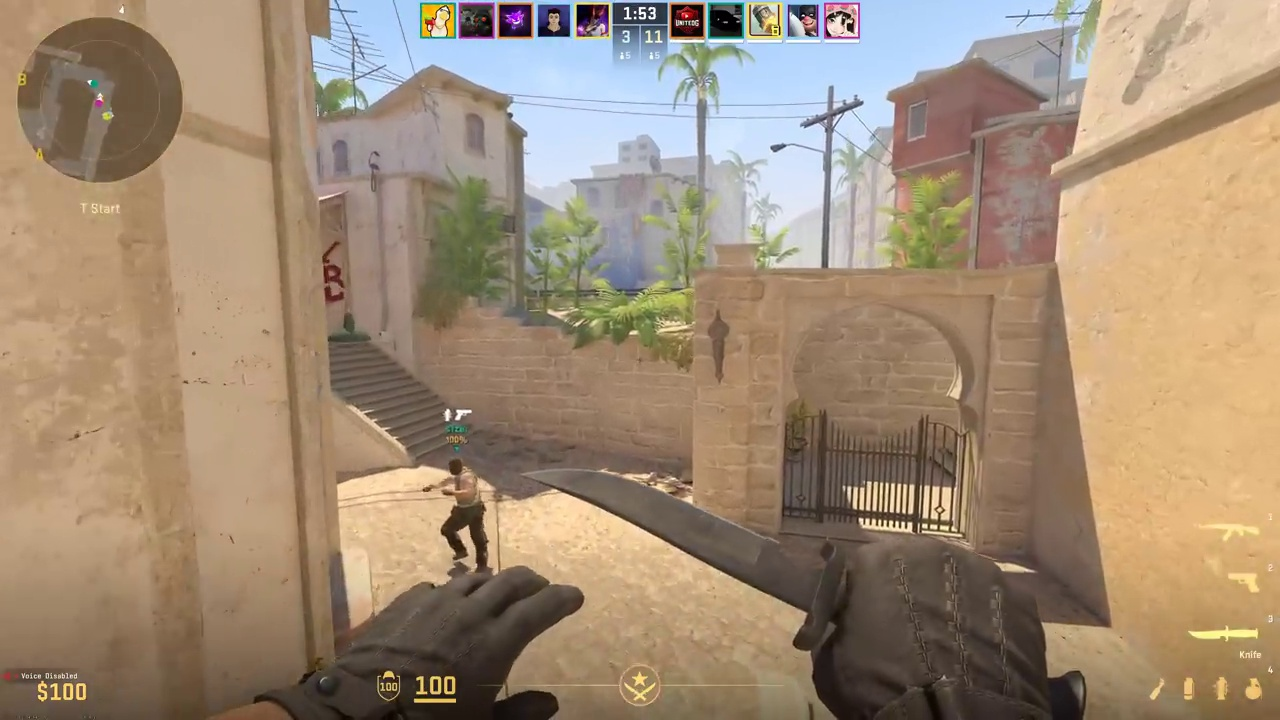Terrorist: (442, 460, 488, 572)
